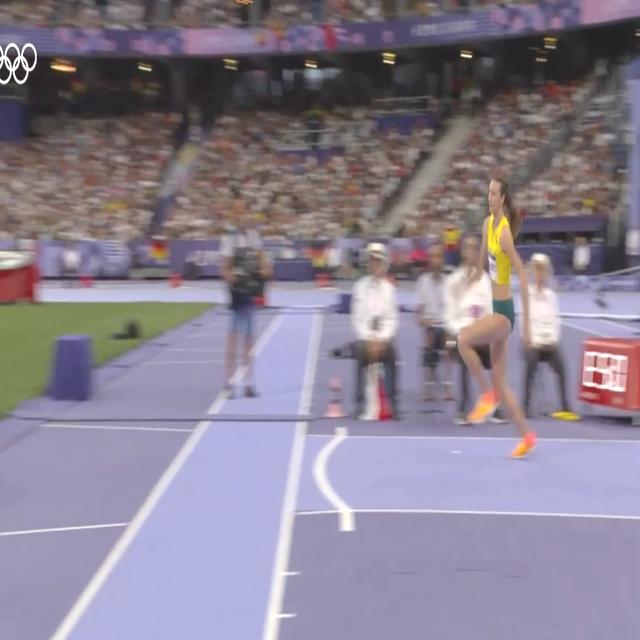run: (458, 179, 532, 455)
